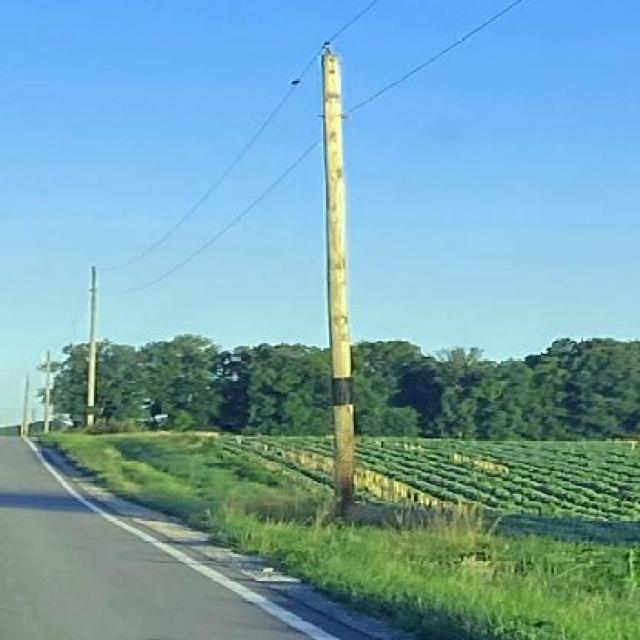pole: (283, 40, 391, 505)
